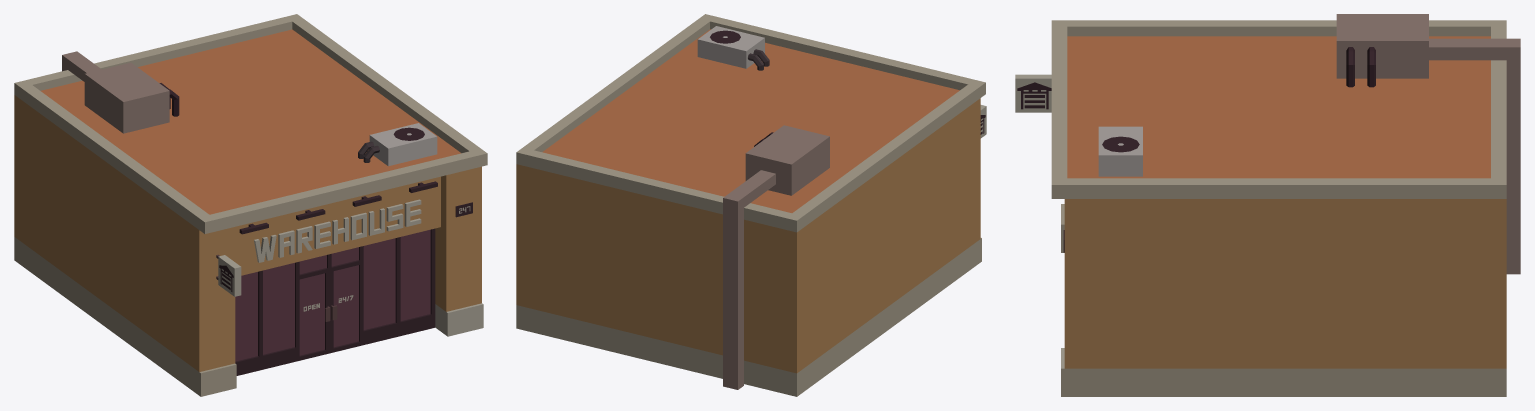
The model's file is Building_4.fbx.
3 renders of one model, left to right at view 1: azimuth 30°, elevation 25°; view 2: azimuth 150°, elevation 25°; view 3: azimuth 270°, elevation 25°, orthographic. The views are drawn at different scales.
Parts seen in each view (by area): view 1: Building_4, Building_4LP; view 2: Building_4; view 3: Building_4, Building_4LP.
Boxes of the visible parts, x1=… form: Building_4: x1=14, y1=14, x2=487, y2=396; Building_4LP: x1=219, y1=199, x2=470, y2=361; Building_4: x1=516, y1=14, x2=986, y2=396; Building_4: x1=1015, y1=14, x2=1520, y2=396; Building_4LP: x1=1017, y1=48, x2=1520, y2=273.
Size of the model in its own units: 9.38 by 6.43 by 12.15.
